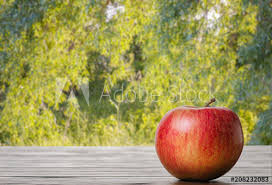apple: (155, 102, 248, 177)
